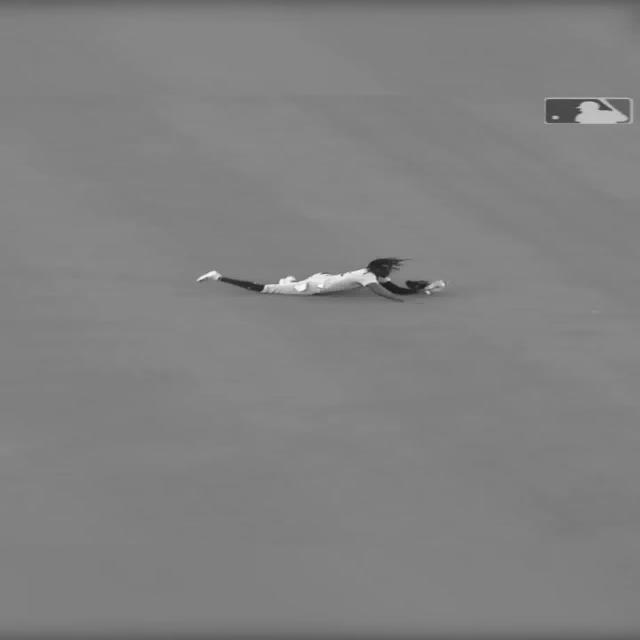baseball_glove: (429, 280, 445, 295)
shoe: (193, 270, 220, 284), (278, 276, 294, 284)
